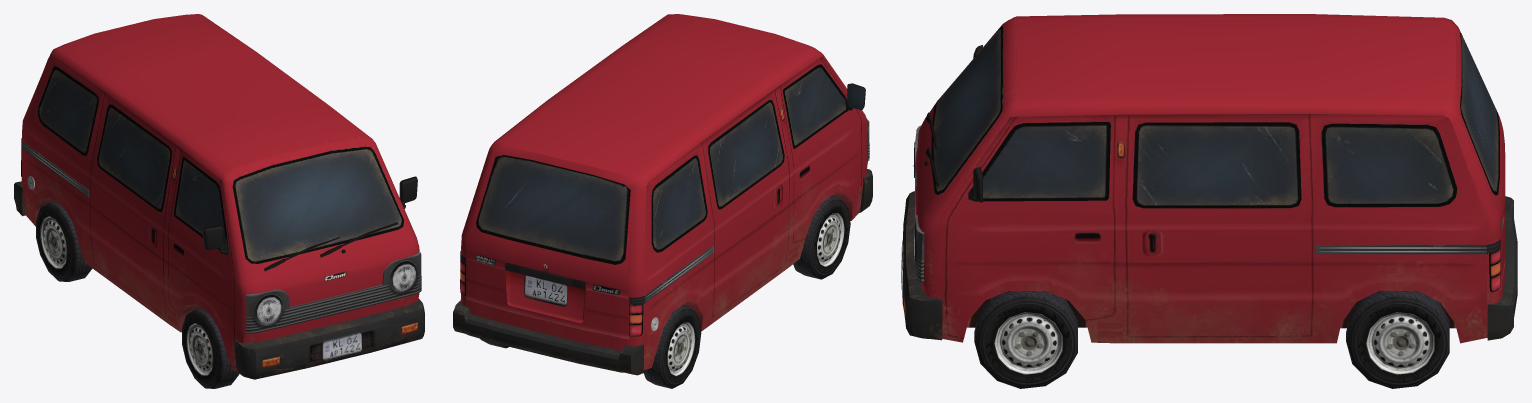
The model's file is omni-real.glb.
3 views of the same model, side by side, from view 1: azimuth 30°, elevation 25°; view 2: azimuth 150°, elevation 25°; view 3: azimuth 270°, elevation 25° (orthographic). The views are drawn at different scales.
Parts seen in each view (by area): view 1: Object_8, Object_10, Object_12, Object_32; view 2: Object_8, Object_10, Object_12, Object_32; view 3: Object_8, Object_10, Object_32, Object_12.
Part boxes in pixels (bbox=[...]): Object_8: bbox=[21, 14, 419, 375]; Object_10: bbox=[37, 66, 415, 323]; Object_12: bbox=[14, 138, 424, 379]; Object_32: bbox=[36, 201, 239, 388]; Object_8: bbox=[460, 14, 867, 376]; Object_10: bbox=[476, 64, 864, 264]; Object_12: bbox=[453, 83, 872, 375]; Object_32: bbox=[480, 196, 850, 388]; Object_8: bbox=[915, 14, 1505, 374]; Object_10: bbox=[913, 26, 1499, 261]; Object_32: bbox=[974, 291, 1449, 388]; Object_12: bbox=[901, 45, 1517, 340].
Size of the model in its own units: 2.03 by 2 by 3.98.
Materials: 4 (4 with a texture image).
